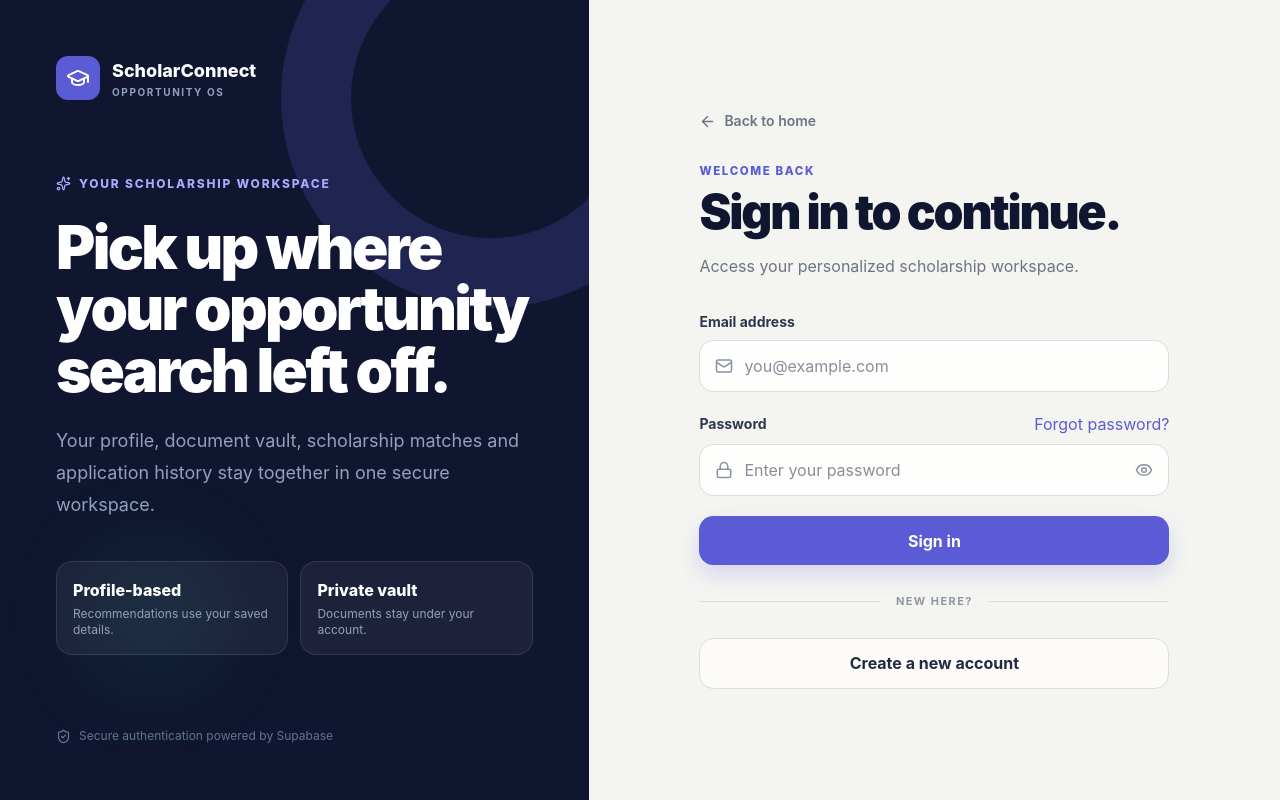
Test: authentication and guards › surfaces authentication errors without navigating
The width and height of the screenshot is (1280, 800).
In the field with placeholder "you@example.com": (934, 366) x1=699 y1=340 x2=1169 y2=392, type "student@example.com"
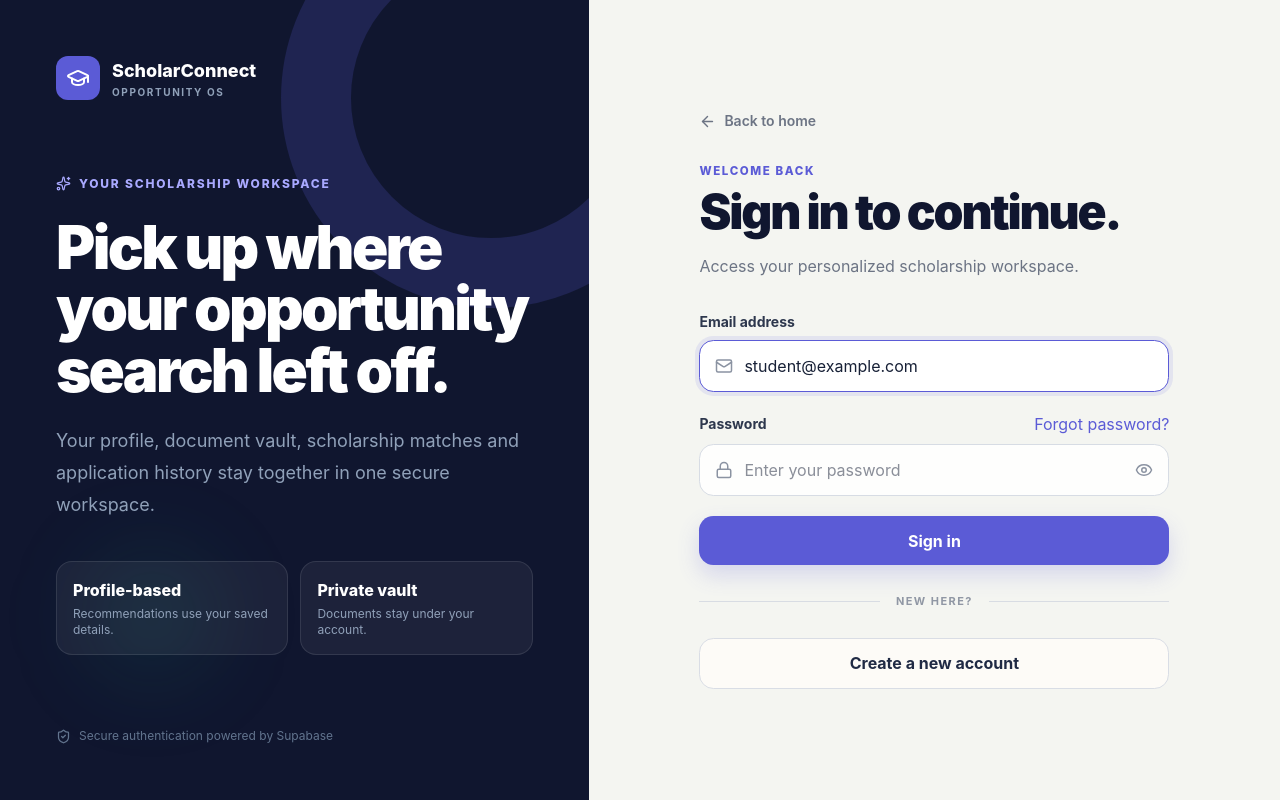
In the password field with placeholder "Enter your password": (934, 470) x1=699 y1=444 x2=1169 y2=496, type "wrong-password"
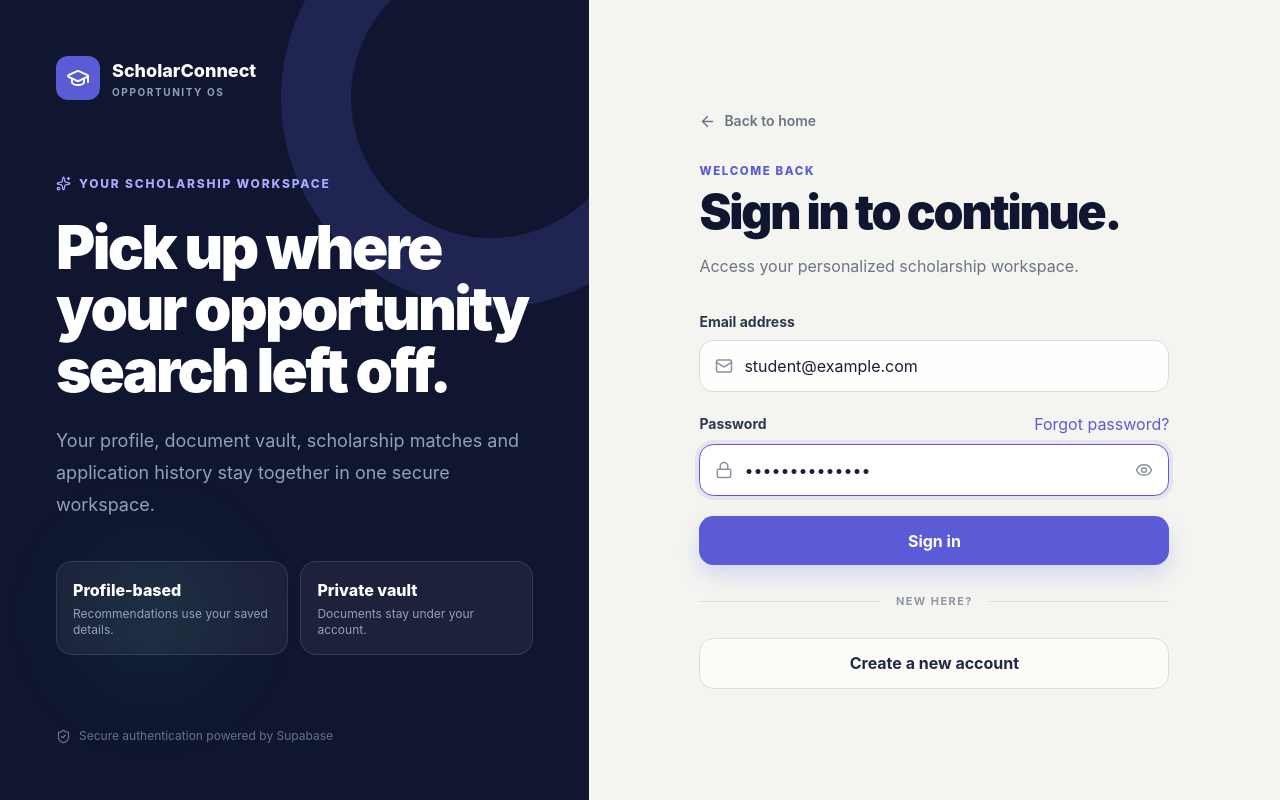
Click the button "Sign in": (934, 541) x1=699 y1=516 x2=1169 y2=565
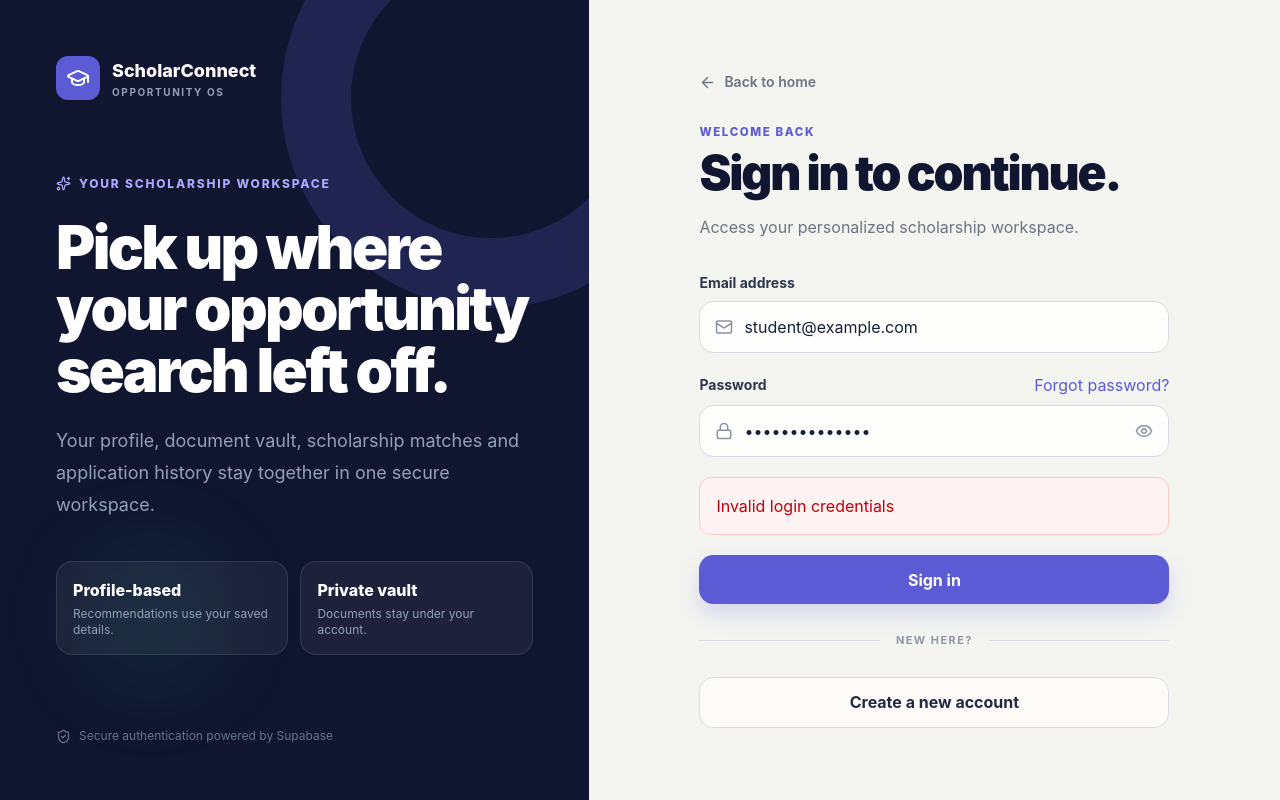
Check: the message reads "Invalid login credentials", box x1=716 y1=496 x2=894 y2=516
